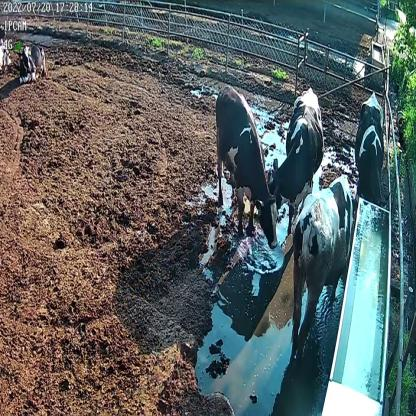cow: (290, 171, 359, 346), (213, 86, 280, 251), (265, 88, 324, 238), (354, 90, 389, 209), (19, 41, 48, 80)
